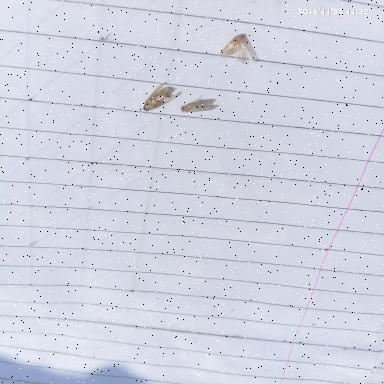pbw: (216, 34, 258, 66), (142, 83, 183, 113), (180, 94, 218, 116)
